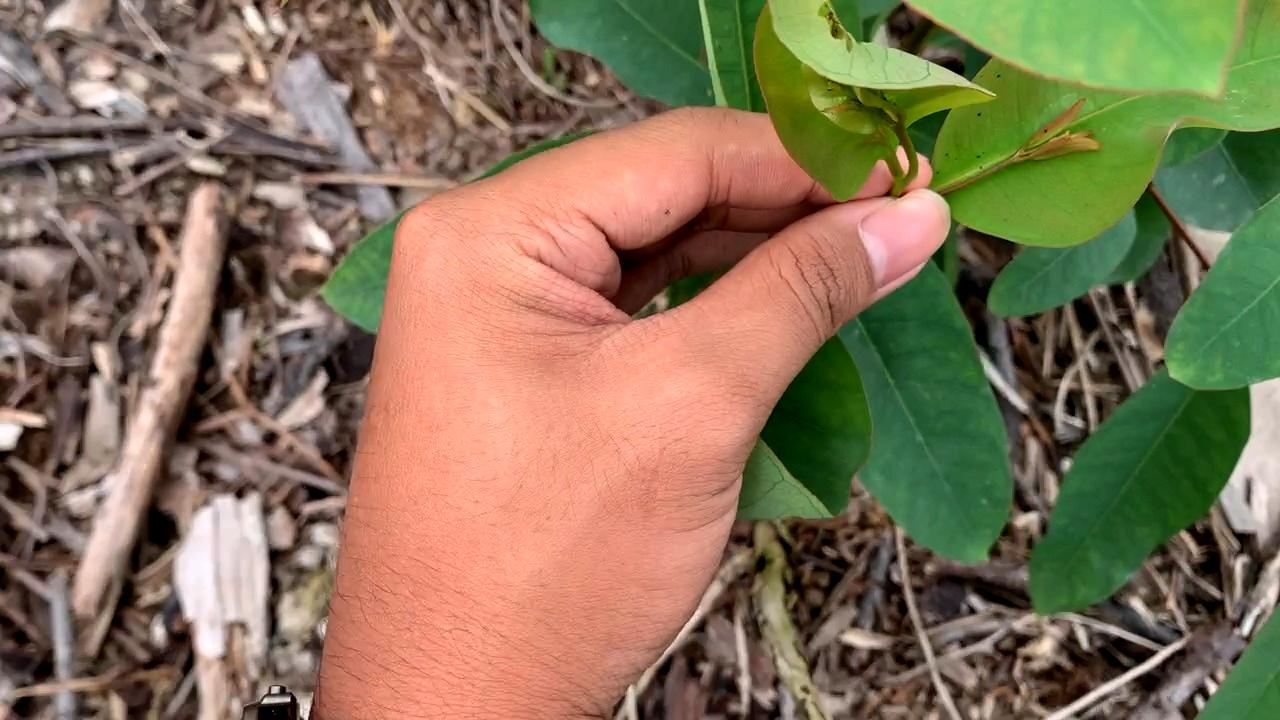Leaf Roller - Leaf: (741, 0, 991, 202)
